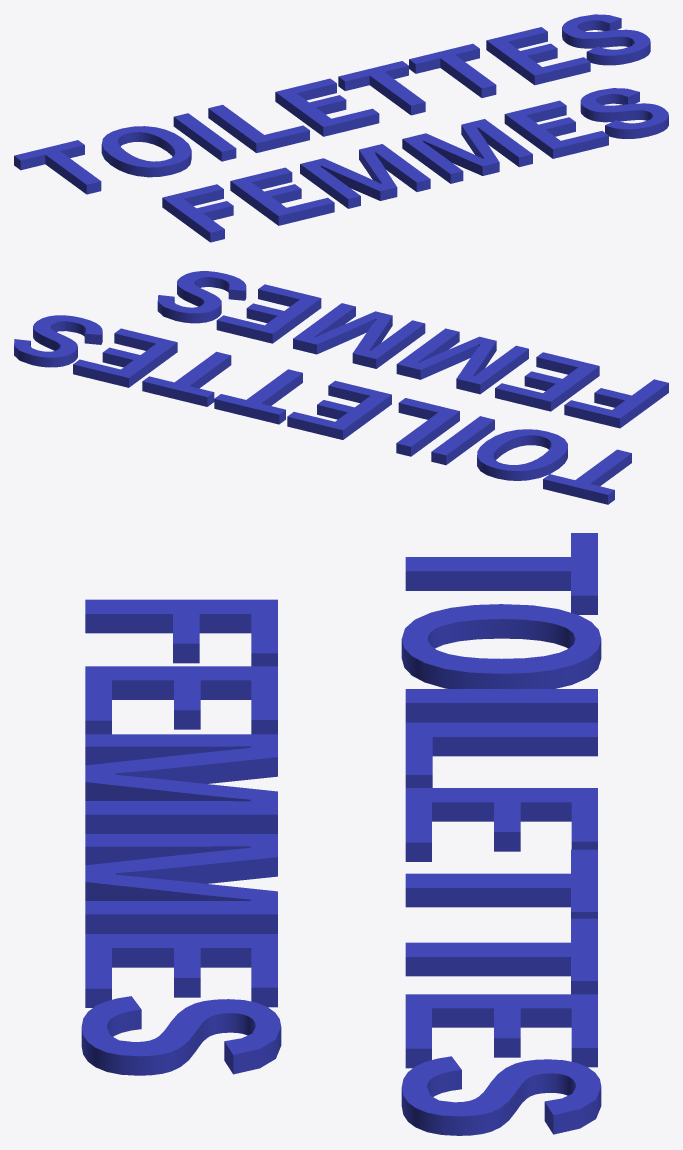
The model's file is toilettesfemmes.fbx.
3 views of the same model, one above another, from view 1: azimuth 30°, elevation 25°; view 2: azimuth 150°, elevation 25°; view 3: azimuth 270°, elevation 25° (orthographic). The views are drawn at different scales.
Visible parts, largest first — view 1: node_id59 (×2); view 2: node_id59 (×2); view 3: node_id59 (×2).
Boxes of the visible parts, x1,y1,x2,y2 form: node_id59 (×2): (14, 14, 668, 242); node_id59 (×2): (14, 271, 668, 504); node_id59 (×2): (81, 533, 601, 1135).
Bounding box in the file's own units: 1.2 × 0.0188 × 0.4526.
